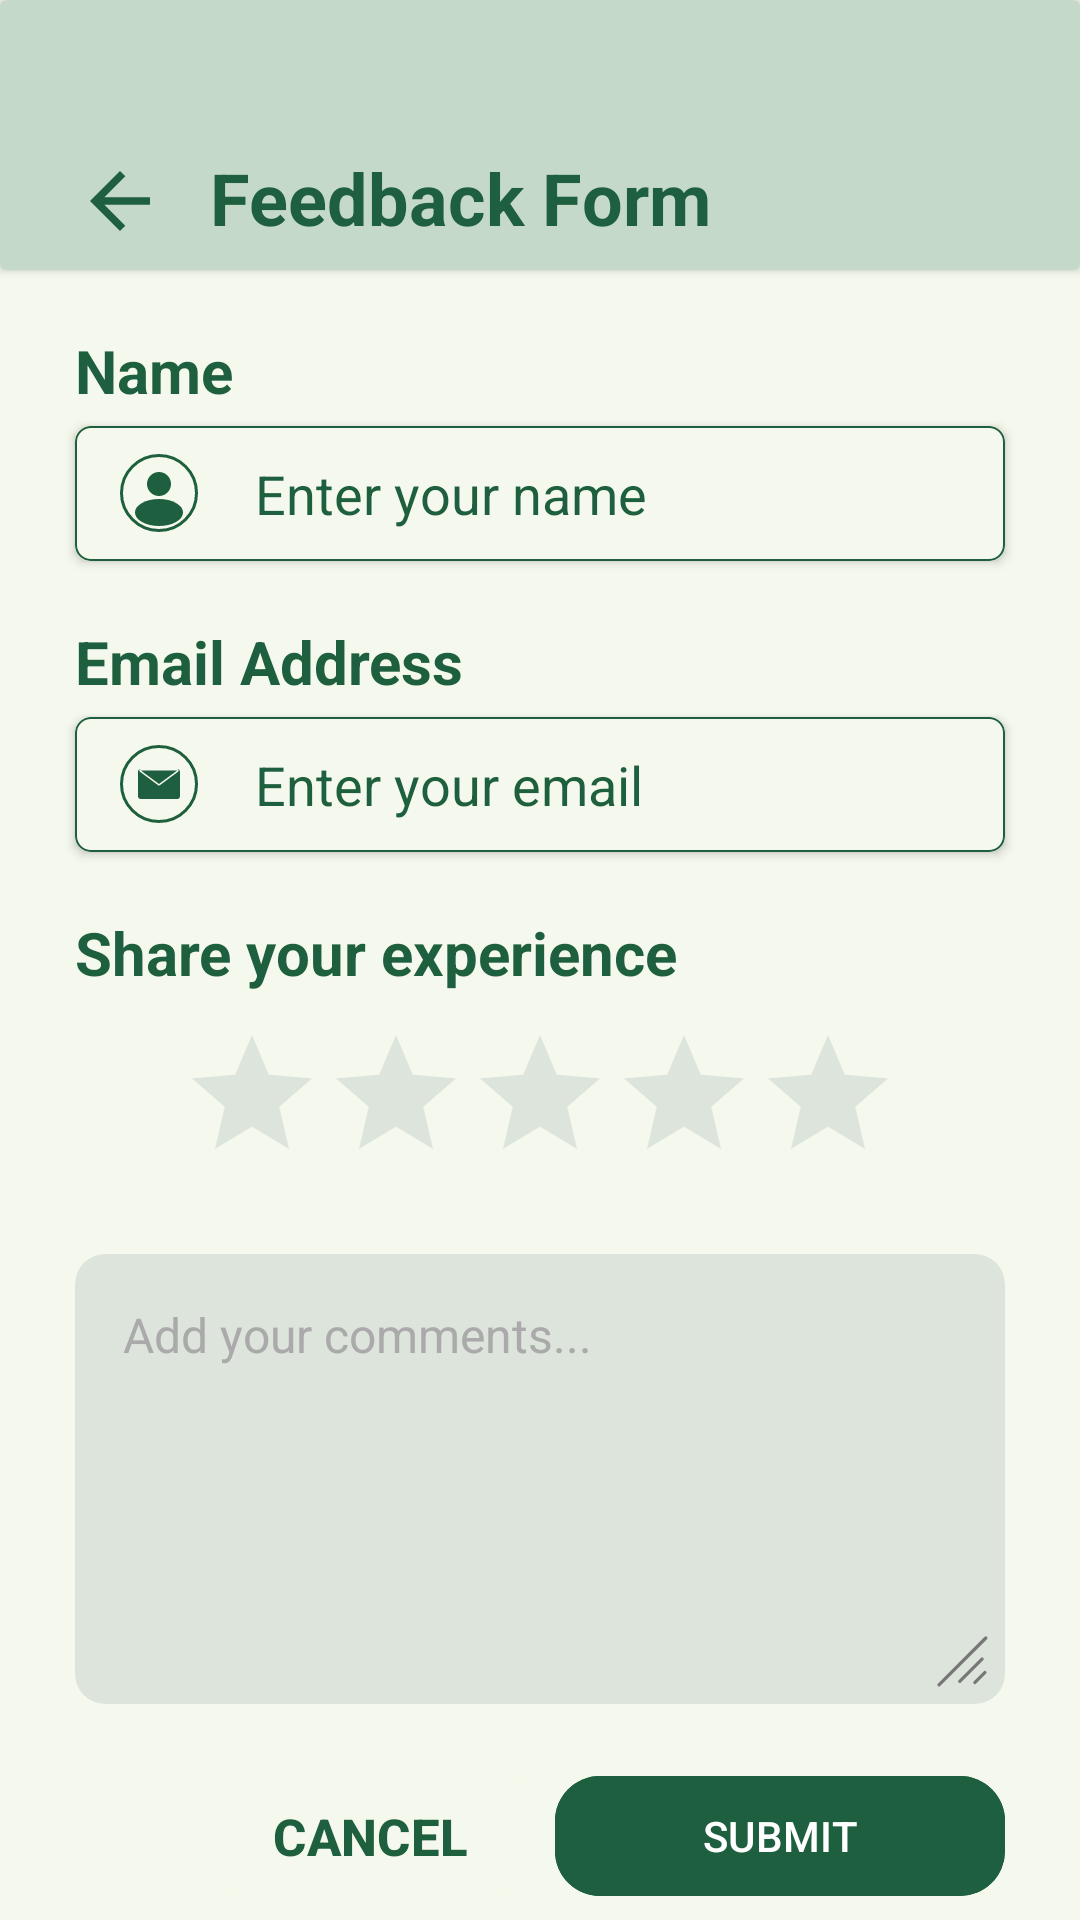

Point at icon controls on the screen. Image size 1080*1920, points as [x,y].
arrow back: [120,201]
